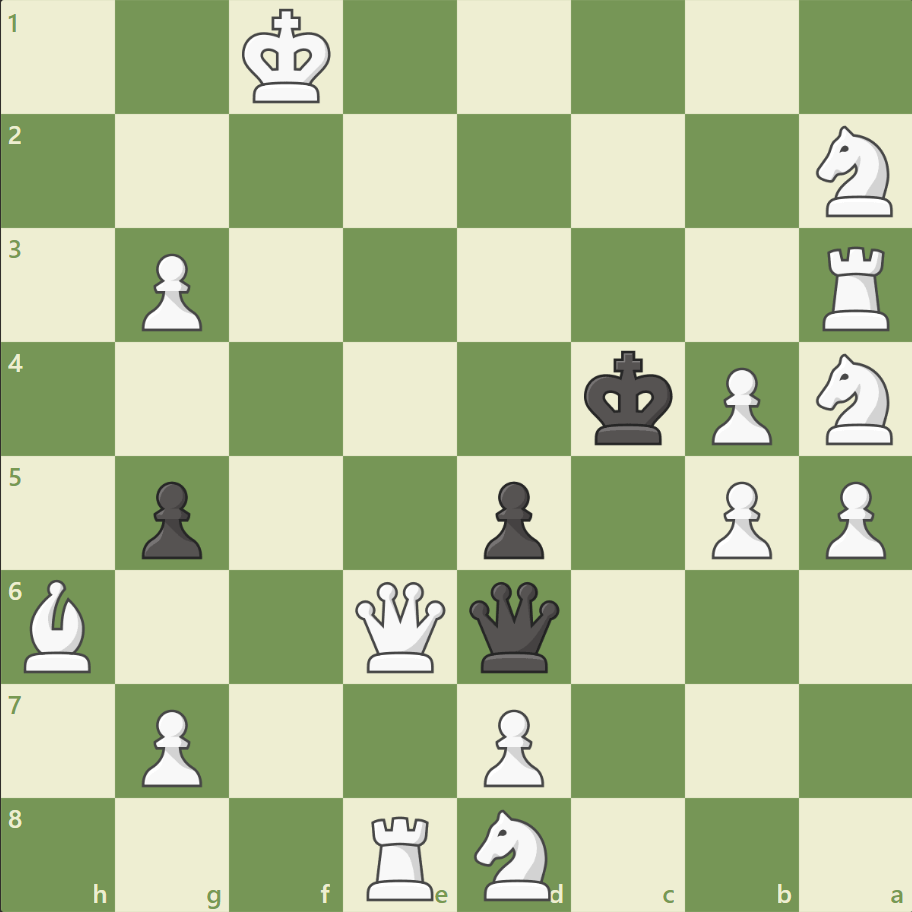B: (17, 574, 101, 676)
K: (238, 4, 338, 112)
N: (465, 802, 562, 904), (806, 348, 903, 450), (806, 121, 903, 223)
P: (474, 700, 549, 791), (133, 700, 208, 791), (701, 473, 776, 564), (701, 359, 776, 450), (133, 246, 208, 337), (815, 473, 889, 564)
Q: (351, 576, 450, 676)
R: (814, 239, 897, 336), (360, 806, 442, 904)
k: (579, 344, 679, 452)
p: (474, 473, 549, 564), (133, 473, 208, 564)
q: (464, 576, 563, 676)
